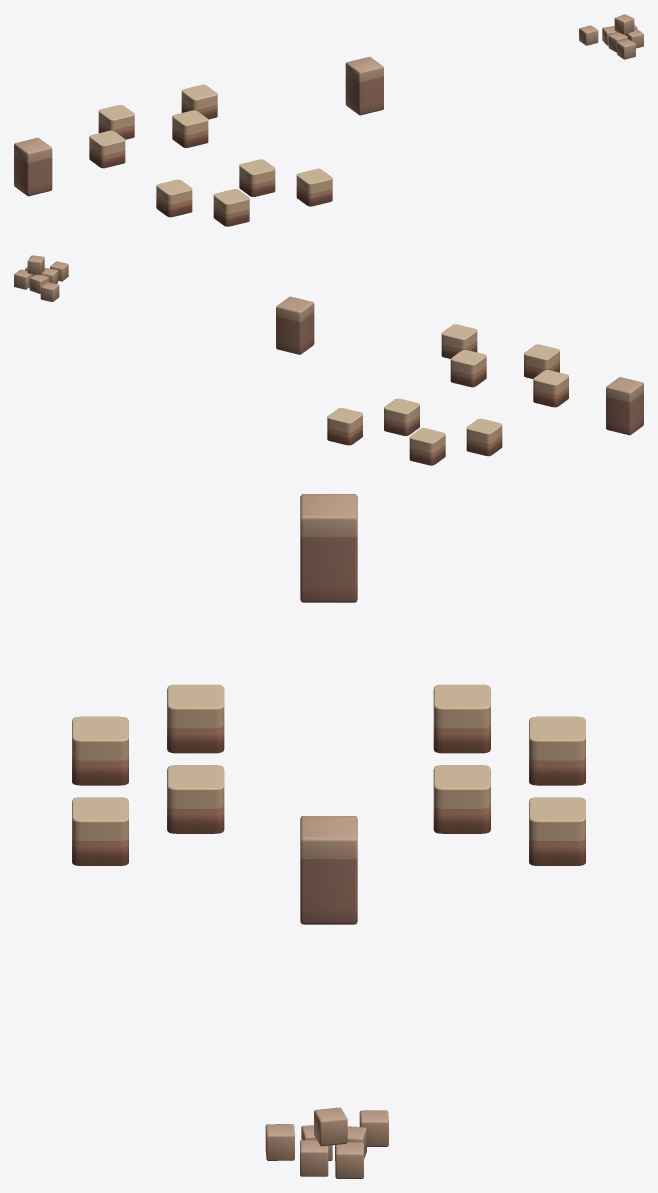
File: Props.fbx
3 renders of one model, top to bottom at view 1: azimuth 30°, elevation 25°; view 2: azimuth 150°, elevation 25°; view 3: azimuth 270°, elevation 25°, orthographic. The views are drawn at different scales.
Parts seen in each view (by area): view 1: Box03 (1), Box03, Box01 (1), Box01 (4), Box01 (6), Box01 (5), Box01, Box01 (7), Box01 (3), Box01 (2), Box1-5 (5), Box1-5 (6) (+1 smaller); view 2: Box03 (1), Box03, Box01 (5), Box01 (6), Box01 (2), Box01 (7), Box01 (3), Box01 (4), Box01 (1), Box01, Box1-5 (6), Box1-5 (5); view 3: Box03, Box03 (1), Box01 (4), Box01 (5), Box01 (6), Box01 (7), Box01, Box01 (2), Box01 (1), Box01 (3), Box1-5 (5), Box1-5 (+3 smaller).
Boxes of the visible parts, x1,y1,x2,y2 form: Box03 (1): [345, 57, 383, 115]; Box03: [14, 137, 52, 196]; Box01 (1): [296, 168, 332, 206]; Box01 (4): [156, 179, 192, 217]; Box01 (6): [239, 159, 275, 196]; Box01 (5): [89, 130, 125, 168]; Box01: [213, 189, 249, 226]; Box01 (7): [172, 110, 208, 147]; Box01 (3): [181, 84, 217, 119]; Box01 (2): [98, 105, 134, 139]; Box1-5 (5): [614, 14, 634, 34]; Box1-5 (6): [579, 25, 598, 45]; Box03 (1): [276, 296, 314, 354]; Box03: [606, 377, 643, 435]; Box01 (5): [466, 418, 502, 456]; Box01 (6): [450, 349, 486, 387]; Box01 (2): [409, 428, 445, 465]; Box01 (7): [384, 398, 419, 435]; Box01 (3): [327, 408, 362, 445]; Box01 (4): [533, 370, 568, 407]; Box01 (1): [441, 324, 477, 358]; Box01: [524, 344, 559, 378]; Box1-5 (6): [40, 282, 59, 301]; Box1-5 (5): [27, 255, 44, 274]; Box03: [300, 494, 357, 602]; Box03 (1): [300, 816, 357, 924]; Box01 (4): [167, 684, 224, 753]; Box01 (5): [433, 684, 490, 753]; Box01 (6): [167, 765, 224, 833]; Box01 (7): [433, 765, 490, 833]; Box01: [72, 716, 128, 785]; Box01 (2): [529, 716, 585, 785]; Box01 (1): [72, 797, 128, 865]; Box01 (3): [529, 797, 585, 865]; Box1-5 (5): [314, 1107, 347, 1146]; Box1-5: [265, 1124, 294, 1160].
Size of the model in its own units: 74.58 by 7.62 by 27.
